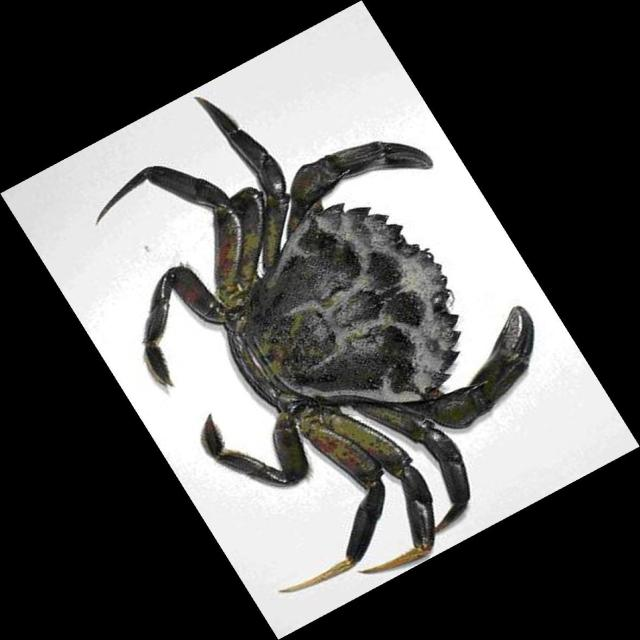European Green crab: (96, 98, 534, 592)
